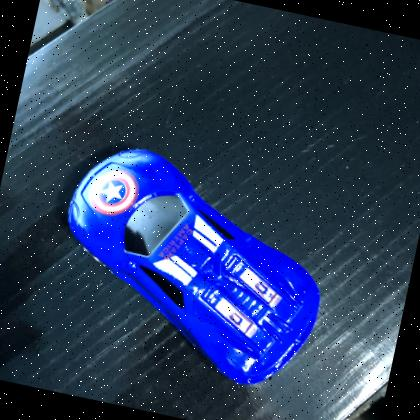Car: (30, 127, 356, 408)
